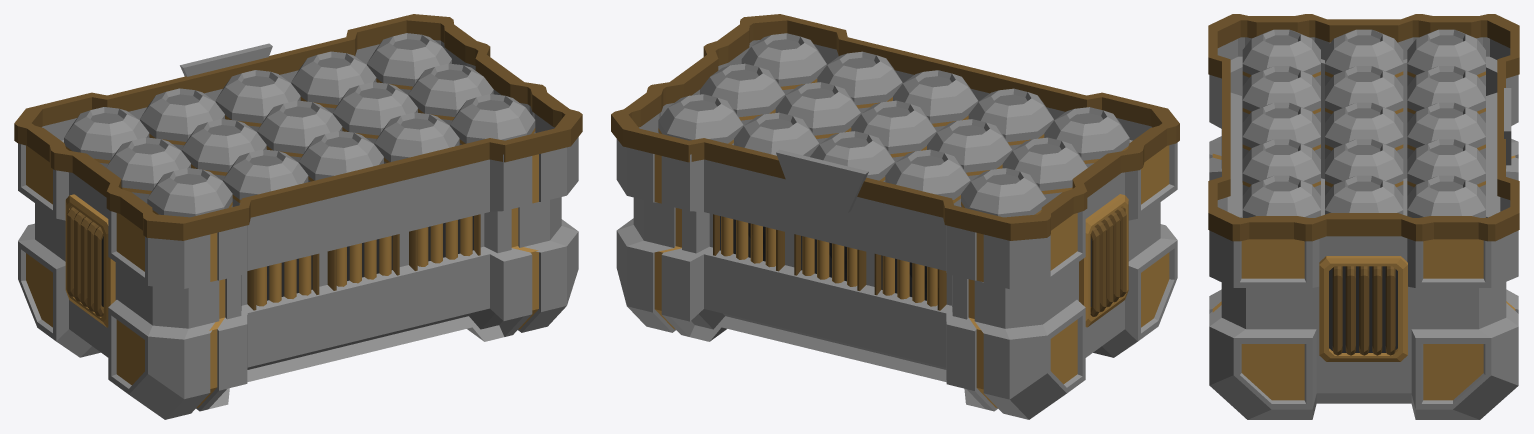
File: containerfull.glb
3 views of the same model, side by side, from view 1: azimuth 30°, elevation 25°; view 2: azimuth 150°, elevation 25°; view 3: azimuth 270°, elevation 25° (orthographic).
Visible parts, largest first — view 1: Props_ContainerFull; view 2: Props_ContainerFull; view 3: Props_ContainerFull.
Part boxes in pixels (x1=…): Props_ContainerFull: x1=14, y1=14, x2=582, y2=419; Props_ContainerFull: x1=611, y1=14, x2=1179, y2=419; Props_ContainerFull: x1=1208, y1=14, x2=1519, y2=419.
Bounding box in the file's own units: 1.2 × 0.5824 × 0.7517.
